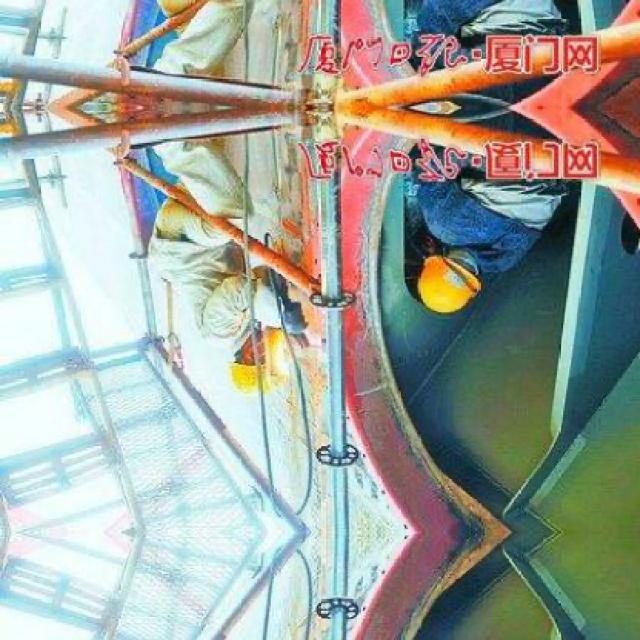con casco: (330, 245, 530, 330), (201, 334, 306, 403)
